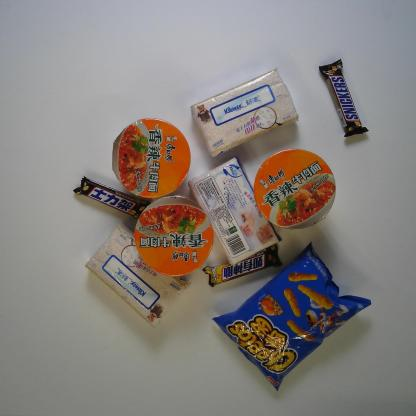Chocolate: (318, 57, 371, 140), (200, 243, 286, 286), (71, 174, 149, 218)
Instant Noodles: (132, 194, 216, 279), (253, 148, 337, 231), (110, 116, 193, 198)
Puffed Food: (210, 238, 374, 393)
Tissue: (82, 221, 192, 332), (187, 156, 283, 266), (189, 67, 299, 159)
